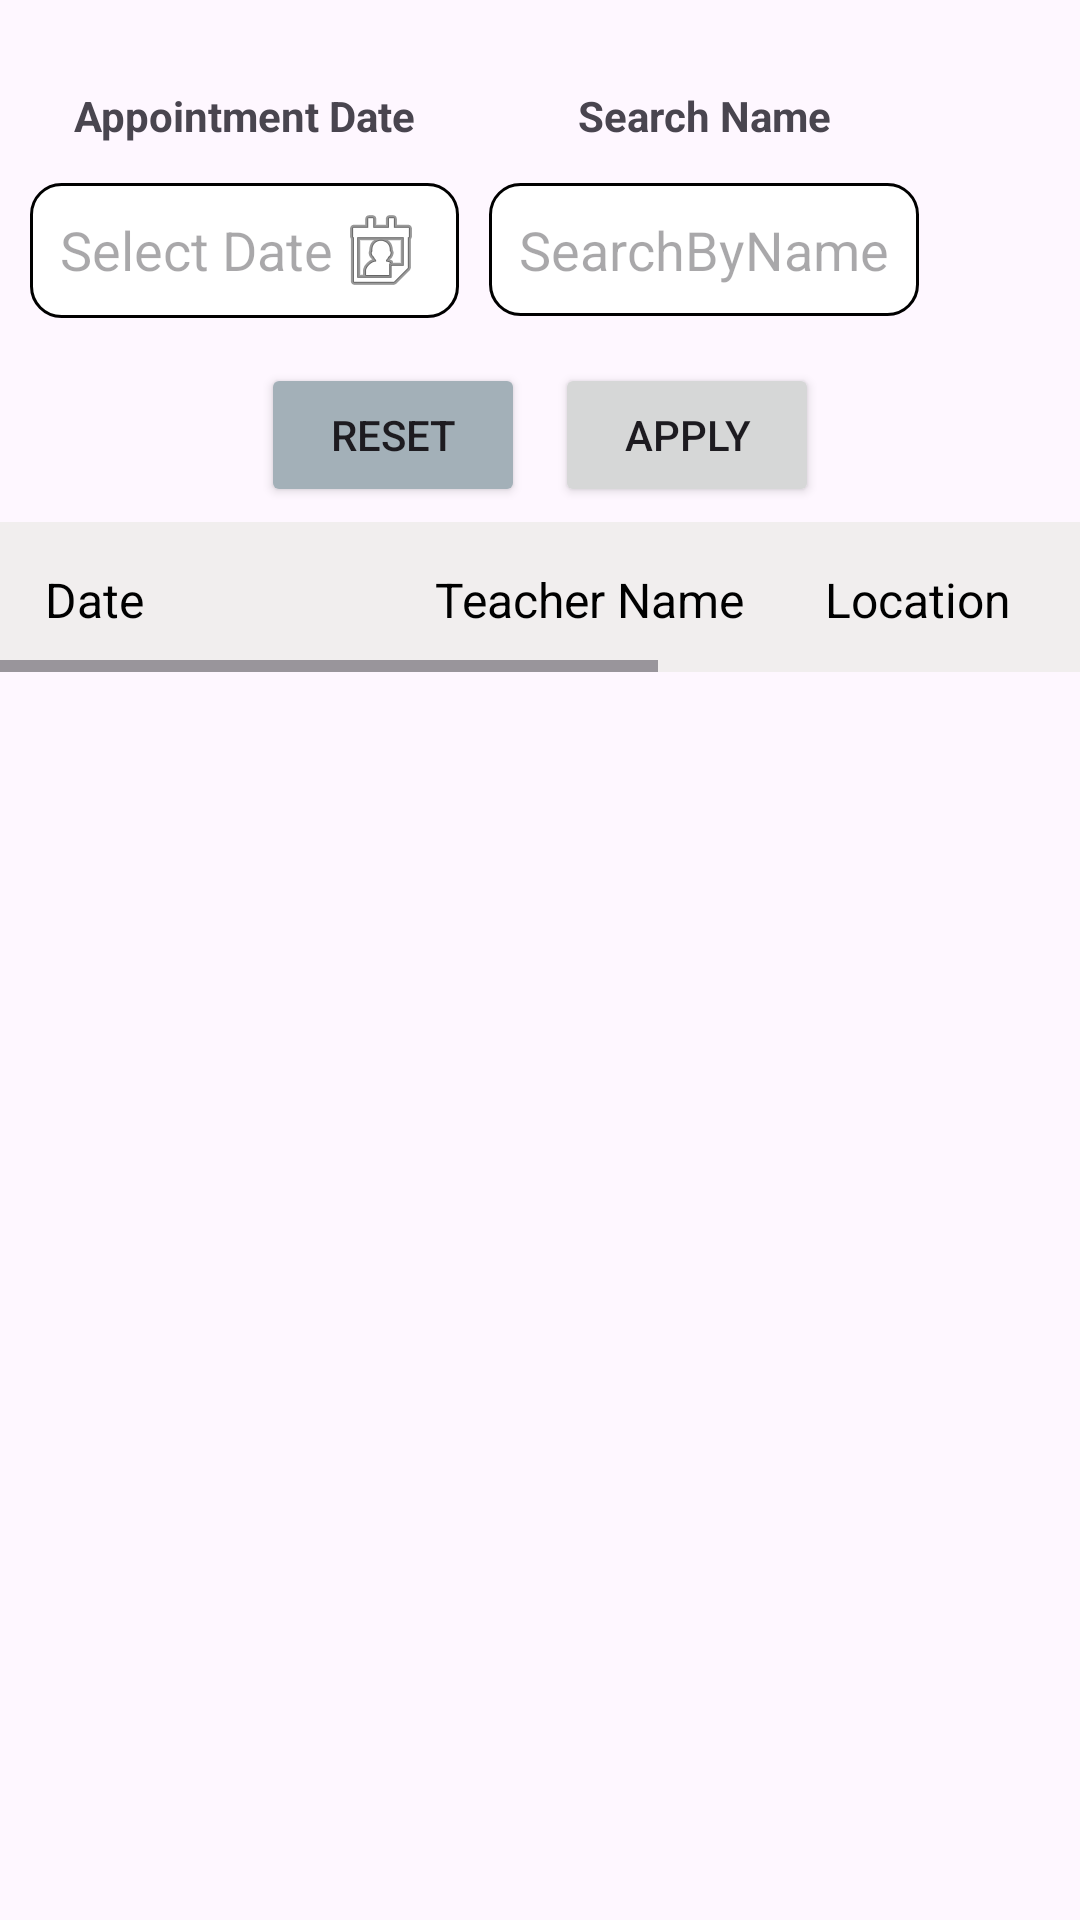

Point at icon controls on the screen. Image size 1080 × 1920, points as (x,y).
Open Calendar: (381,250)
